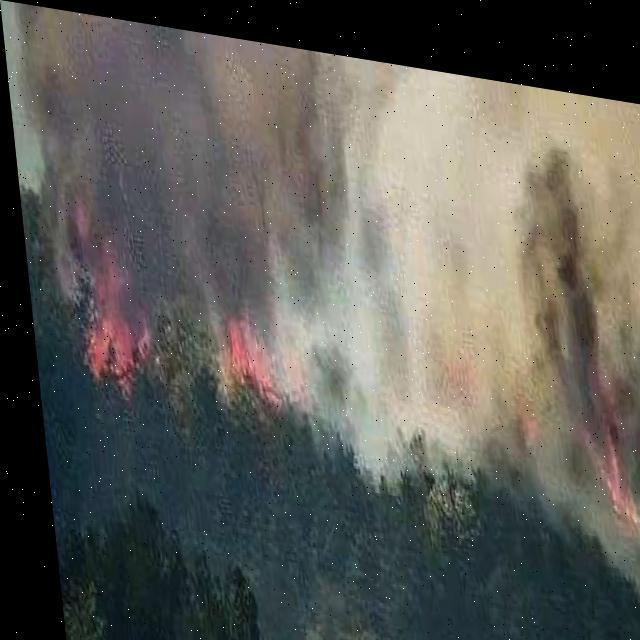Fire: (65, 236, 148, 396), (213, 289, 304, 422), (582, 354, 639, 525)
